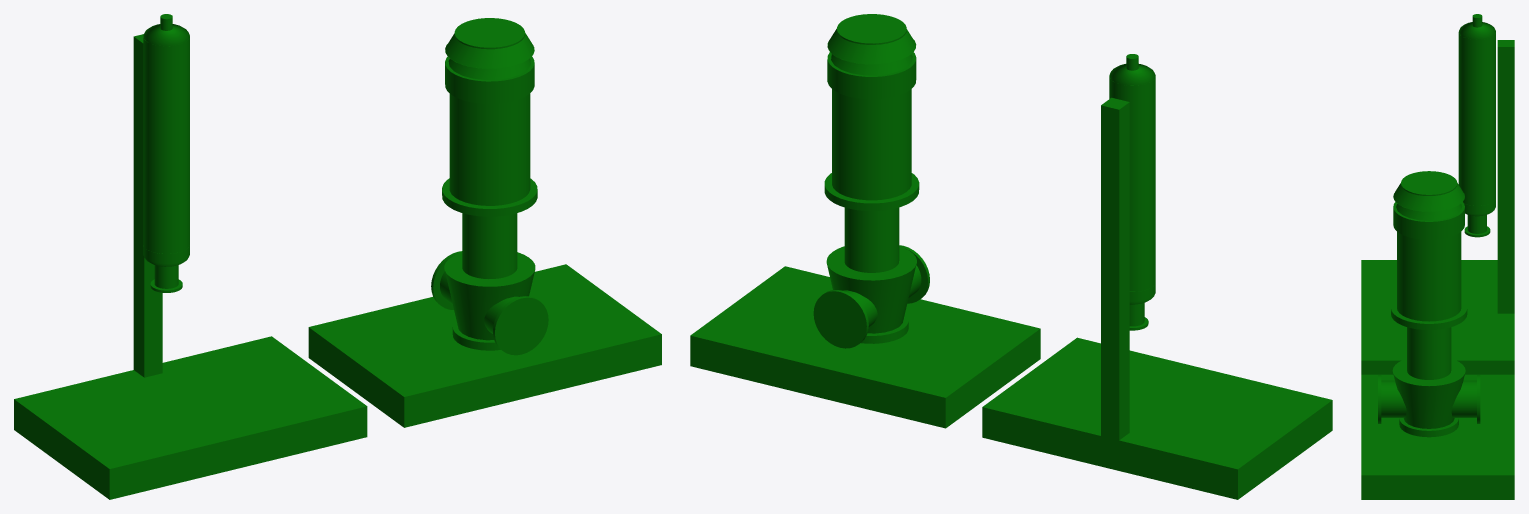
Rendered from Image-1710907726152-2281110644496_24-PA001.fbx.
3 renders of one model, left to right at view 1: azimuth 30°, elevation 25°; view 2: azimuth 150°, elevation 25°; view 3: azimuth 270°, elevation 25°, orthographic. The views are drawn at different scales.
Visible parts, largest first — view 1: BOX 1 of SUBEQUIPMENT 2 of EQUIPMENT /24-PA001, BOX 2 of SUBEQUIPMENT 2 of EQUIPMENT /24-PA001, CYLINDER 1 of SUBEQUIPMENT 3 of EQUIPMENT /24-PA001, CYLINDER 1 of SUBEQUIPMENT 1 of EQUIPMENT /24-PA001, BOX 4 of SUBEQUIPMENT 2 of EQUIPMENT /24-PA001, CONE 1 of SUBEQUIPMENT 1 of EQUIPMENT /24-PA001, CYLINDER 3 of SUBEQUIPMENT 1 of EQUIPMENT /24-PA001, NOZZLE 1 of SUBEQUIPMENT 1 of EQUIPMENT /24-PA001, CYLINDER 6 of SUBEQUIPMENT 1 of EQUIPMENT /24-PA001, CONE 3 of SUBEQUIPMENT 1 of EQUIPMENT /24-PA001, CYLINDER 8 of SUBEQUIPMENT 1 of EQUIPMENT /24-PA001, CYLINDER 2 of SUBEQUIPMENT 1 of EQUIPMENT /24-PA001 (+4 smaller); view 2: BOX 1 of SUBEQUIPMENT 2 of EQUIPMENT /24-PA001, BOX 2 of SUBEQUIPMENT 2 of EQUIPMENT /24-PA001, BOX 4 of SUBEQUIPMENT 2 of EQUIPMENT /24-PA001, CYLINDER 1 of SUBEQUIPMENT 1 of EQUIPMENT /24-PA001, CYLINDER 1 of SUBEQUIPMENT 3 of EQUIPMENT /24-PA001, CONE 1 of SUBEQUIPMENT 1 of EQUIPMENT /24-PA001, CYLINDER 3 of SUBEQUIPMENT 1 of EQUIPMENT /24-PA001, NOZZLE 2 of SUBEQUIPMENT 1 of EQUIPMENT /24-PA001, CYLINDER 6 of SUBEQUIPMENT 1 of EQUIPMENT /24-PA001, CONE 3 of SUBEQUIPMENT 1 of EQUIPMENT /24-PA001, CYLINDER 8 of SUBEQUIPMENT 1 of EQUIPMENT /24-PA001, CYLINDER 2 of SUBEQUIPMENT 1 of EQUIPMENT /24-PA001 (+3 smaller); view 3: BOX 2 of SUBEQUIPMENT 2 of EQUIPMENT /24-PA001, BOX 1 of SUBEQUIPMENT 2 of EQUIPMENT /24-PA001, CYLINDER 1 of SUBEQUIPMENT 3 of EQUIPMENT /24-PA001, CYLINDER 1 of SUBEQUIPMENT 1 of EQUIPMENT /24-PA001, BOX 4 of SUBEQUIPMENT 2 of EQUIPMENT /24-PA001, CONE 1 of SUBEQUIPMENT 1 of EQUIPMENT /24-PA001, CYLINDER 3 of SUBEQUIPMENT 1 of EQUIPMENT /24-PA001, CYLINDER 6 of SUBEQUIPMENT 1 of EQUIPMENT /24-PA001, CONE 3 of SUBEQUIPMENT 1 of EQUIPMENT /24-PA001, CYLINDER 8 of SUBEQUIPMENT 1 of EQUIPMENT /24-PA001, NOZZLE 2 of SUBEQUIPMENT 1 of EQUIPMENT /24-PA001, NOZZLE 1 of SUBEQUIPMENT 1 of EQUIPMENT /24-PA001 (+7 smaller).
Boxes of the visible parts, x1=… form: BOX 1 of SUBEQUIPMENT 2 of EQUIPMENT /24-PA001: x1=14, y1=336, x2=367, y2=499; BOX 2 of SUBEQUIPMENT 2 of EQUIPMENT /24-PA001: x1=308, y1=264, x2=661, y2=427; CYLINDER 1 of SUBEQUIPMENT 3 of EQUIPMENT /24-PA001: x1=143, y1=49, x2=189, y2=253; CYLINDER 1 of SUBEQUIPMENT 1 of EQUIPMENT /24-PA001: x1=449, y1=93, x2=530, y2=205; BOX 4 of SUBEQUIPMENT 2 of EQUIPMENT /24-PA001: x1=133, y1=34, x2=162, y2=377; CONE 1 of SUBEQUIPMENT 1 of EQUIPMENT /24-PA001: x1=444, y1=252, x2=535, y2=340; CYLINDER 3 of SUBEQUIPMENT 1 of EQUIPMENT /24-PA001: x1=462, y1=213, x2=517, y2=278; NOZZLE 1 of SUBEQUIPMENT 1 of EQUIPMENT /24-PA001: x1=484, y1=296, x2=548, y2=355; CYLINDER 6 of SUBEQUIPMENT 1 of EQUIPMENT /24-PA001: x1=445, y1=56, x2=534, y2=103; CONE 3 of SUBEQUIPMENT 1 of EQUIPMENT /24-PA001: x1=445, y1=32, x2=534, y2=68; CYLINDER 8 of SUBEQUIPMENT 1 of EQUIPMENT /24-PA001: x1=454, y1=18, x2=524, y2=49; CYLINDER 2 of SUBEQUIPMENT 1 of EQUIPMENT /24-PA001: x1=442, y1=178, x2=537, y2=216; BOX 1 of SUBEQUIPMENT 2 of EQUIPMENT /24-PA001: x1=982, y1=337, x2=1332, y2=499; BOX 2 of SUBEQUIPMENT 2 of EQUIPMENT /24-PA001: x1=690, y1=266, x2=1040, y2=428; BOX 4 of SUBEQUIPMENT 2 of EQUIPMENT /24-PA001: x1=1101, y1=97, x2=1129, y2=440; CYLINDER 1 of SUBEQUIPMENT 1 of EQUIPMENT /24-PA001: x1=832, y1=89, x2=911, y2=200; CYLINDER 1 of SUBEQUIPMENT 3 of EQUIPMENT /24-PA001: x1=1109, y1=88, x2=1155, y2=291; CONE 1 of SUBEQUIPMENT 1 of EQUIPMENT /24-PA001: x1=826, y1=246, x2=916, y2=333; CYLINDER 3 of SUBEQUIPMENT 1 of EQUIPMENT /24-PA001: x1=844, y1=207, x2=899, y2=272; NOZZLE 2 of SUBEQUIPMENT 1 of EQUIPMENT /24-PA001: x1=813, y1=290, x2=877, y2=348; CYLINDER 6 of SUBEQUIPMENT 1 of EQUIPMENT /24-PA001: x1=827, y1=52, x2=916, y2=99; CONE 3 of SUBEQUIPMENT 1 of EQUIPMENT /24-PA001: x1=827, y1=28, x2=916, y2=64; CYLINDER 8 of SUBEQUIPMENT 1 of EQUIPMENT /24-PA001: x1=837, y1=14, x2=906, y2=44; CYLINDER 2 of SUBEQUIPMENT 1 of EQUIPMENT /24-PA001: x1=824, y1=173, x2=919, y2=210; BOX 2 of SUBEQUIPMENT 2 of EQUIPMENT /24-PA001: x1=1361, y1=374, x2=1514, y2=499; BOX 1 of SUBEQUIPMENT 2 of EQUIPMENT /24-PA001: x1=1361, y1=260, x2=1514, y2=374; CYLINDER 1 of SUBEQUIPMENT 3 of EQUIPMENT /24-PA001: x1=1458, y1=41, x2=1495, y2=205; CYLINDER 1 of SUBEQUIPMENT 1 of EQUIPMENT /24-PA001: x1=1397, y1=232, x2=1461, y2=321; BOX 4 of SUBEQUIPMENT 2 of EQUIPMENT /24-PA001: x1=1497, y1=40, x2=1514, y2=313; CONE 1 of SUBEQUIPMENT 1 of EQUIPMENT /24-PA001: x1=1392, y1=358, x2=1465, y2=428; CYLINDER 3 of SUBEQUIPMENT 1 of EQUIPMENT /24-PA001: x1=1407, y1=327, x2=1451, y2=379; CYLINDER 6 of SUBEQUIPMENT 1 of EQUIPMENT /24-PA001: x1=1393, y1=202, x2=1464, y2=239; CONE 3 of SUBEQUIPMENT 1 of EQUIPMENT /24-PA001: x1=1393, y1=183, x2=1464, y2=211; CYLINDER 8 of SUBEQUIPMENT 1 of EQUIPMENT /24-PA001: x1=1401, y1=171, x2=1457, y2=195; NOZZLE 2 of SUBEQUIPMENT 1 of EQUIPMENT /24-PA001: x1=1451, y1=374, x2=1480, y2=423; NOZZLE 1 of SUBEQUIPMENT 1 of EQUIPMENT /24-PA001: x1=1378, y1=374, x2=1406, y2=423.
Size of the model in its own units: 3 by 0.9 by 2.07.
